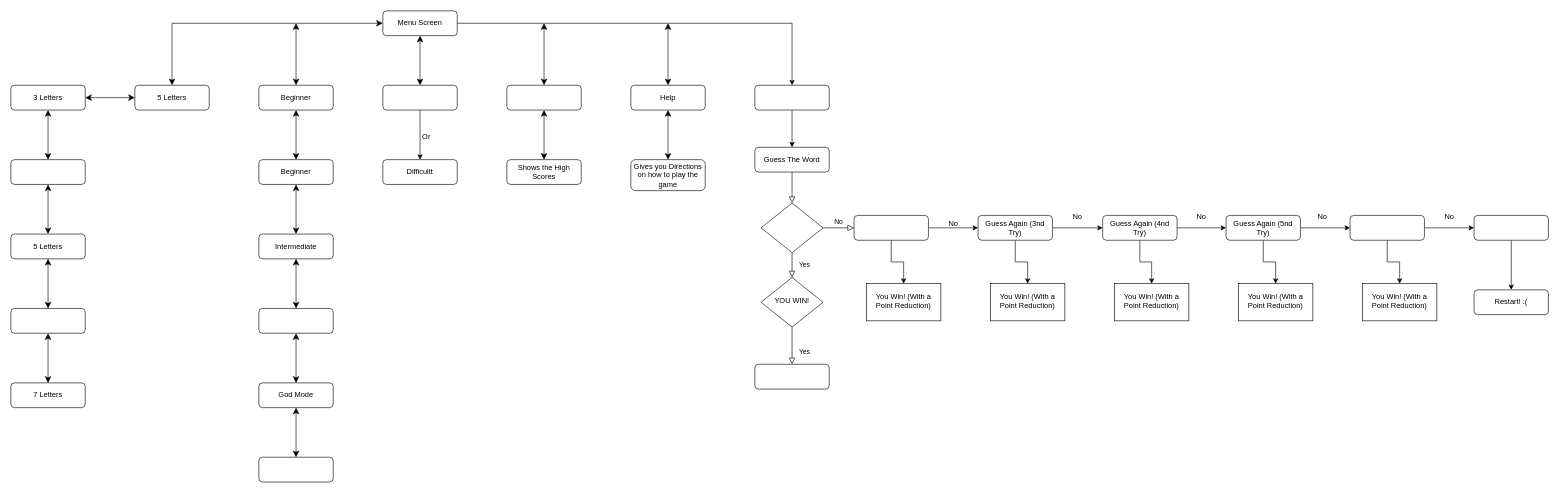
The diagram is 1559 pixels wide and 493 high, and some of its shapes have lost their labels. The box of each missing label's shape, as (x1, y1, x2, y2) in pixels:
4 Letters: (10, 159, 85, 184)
6 Letters: (10, 308, 85, 333)
Advanced: (258, 308, 333, 333)
Custom: (258, 457, 333, 482)
Easy: (382, 85, 457, 110)
Guess Again (2nd Try): (853, 215, 928, 240)
Guess Again (6nd Try): (1349, 215, 1424, 240)
High Scores: (506, 85, 581, 110)
Is the word correct?: (760, 202, 823, 253)
Restart :): (754, 364, 829, 389)
Start Game: (754, 85, 829, 110)
YOU LOSE!: (1473, 215, 1548, 240)
